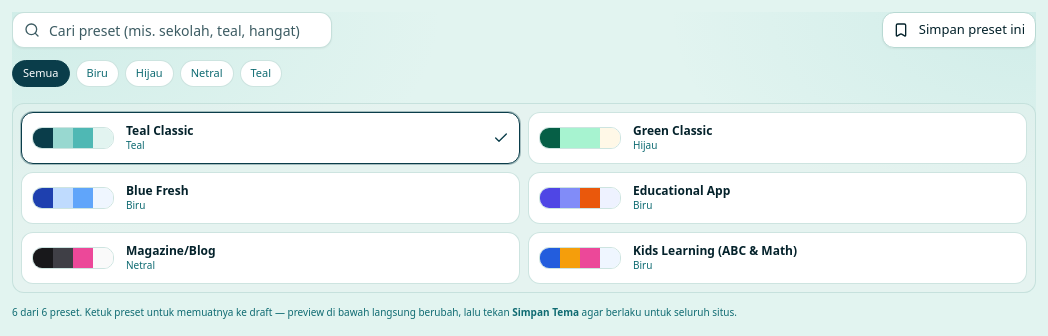
Test case: ThemePresetGallery › menampilkan pesan kosong bila tidak ada hasil
In the field named "Cari preset tema": (172, 30) [12,12,332,48], type "zzz-tidak-ada"
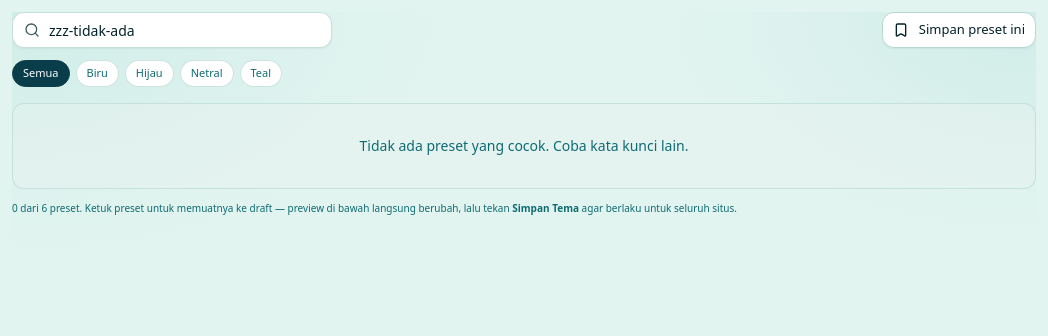
Now the text "Tidak ada preset yang cocok. Coba kata kunci lain." is shown, box [360,136,688,154]
